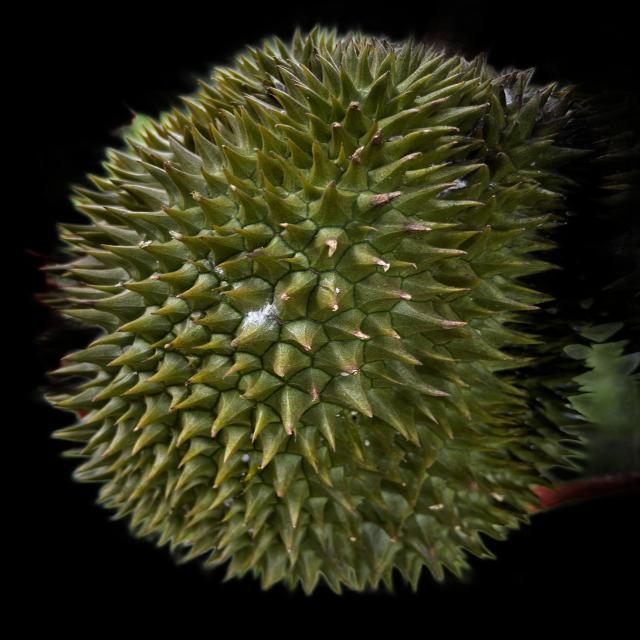immature: (41, 31, 571, 596)
